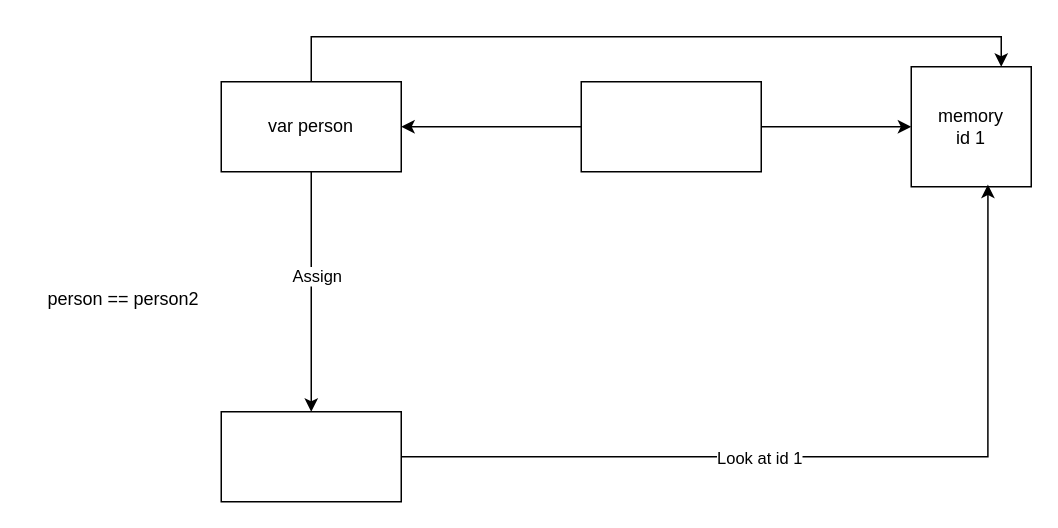
This 1058x528 diagram has some shape labels left out. The centre of each missing label's shape, as x and y in pixels:
"new Person()" belongs at point 670,126.
"var person2" belongs at point 310,456.
